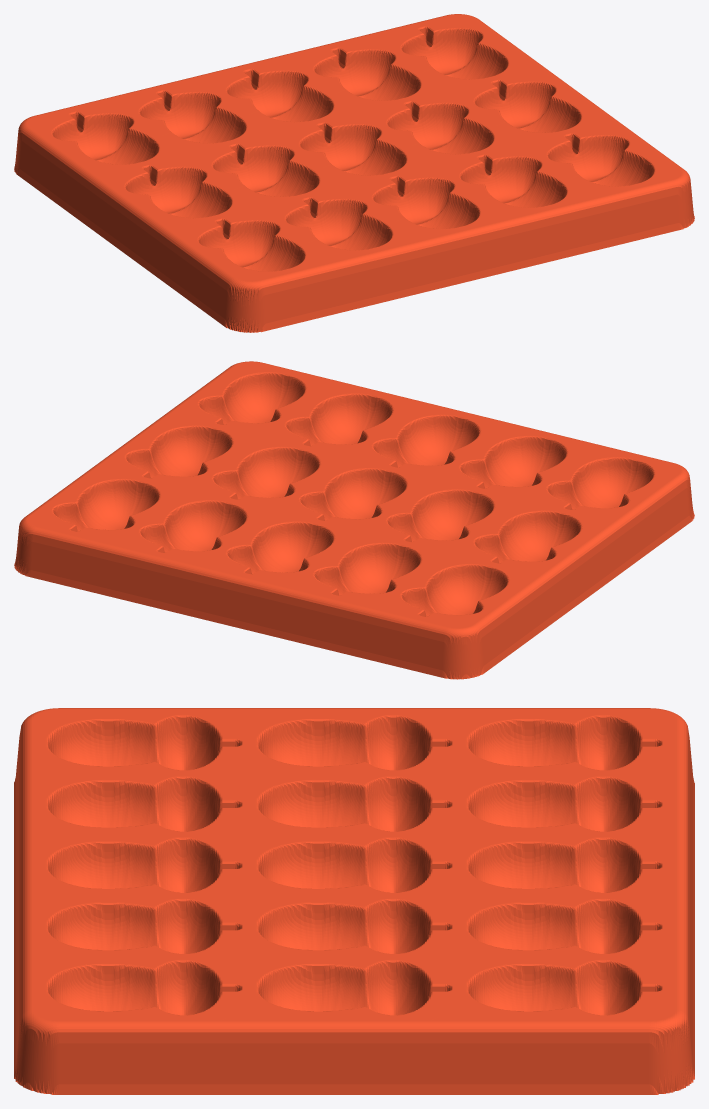
The model's file is mold.glb.
The picture shows the model from 3 angles, top to bottom: view 1: azimuth 30°, elevation 25°; view 2: azimuth 150°, elevation 25°; view 3: azimuth 270°, elevation 25°; orthographic projection. The views are drawn at different scales.
Visible parts, largest first — view 1: geometry_0; view 2: geometry_0; view 3: geometry_0.
Part boxes in pixels (<box>): geometry_0: <box>14,14,694,332</box>; geometry_0: <box>14,361,694,679</box>; geometry_0: <box>14,708,694,1094</box>.
Bounding box in the file's own units: 0.155 × 0.0145 × 0.1361.
